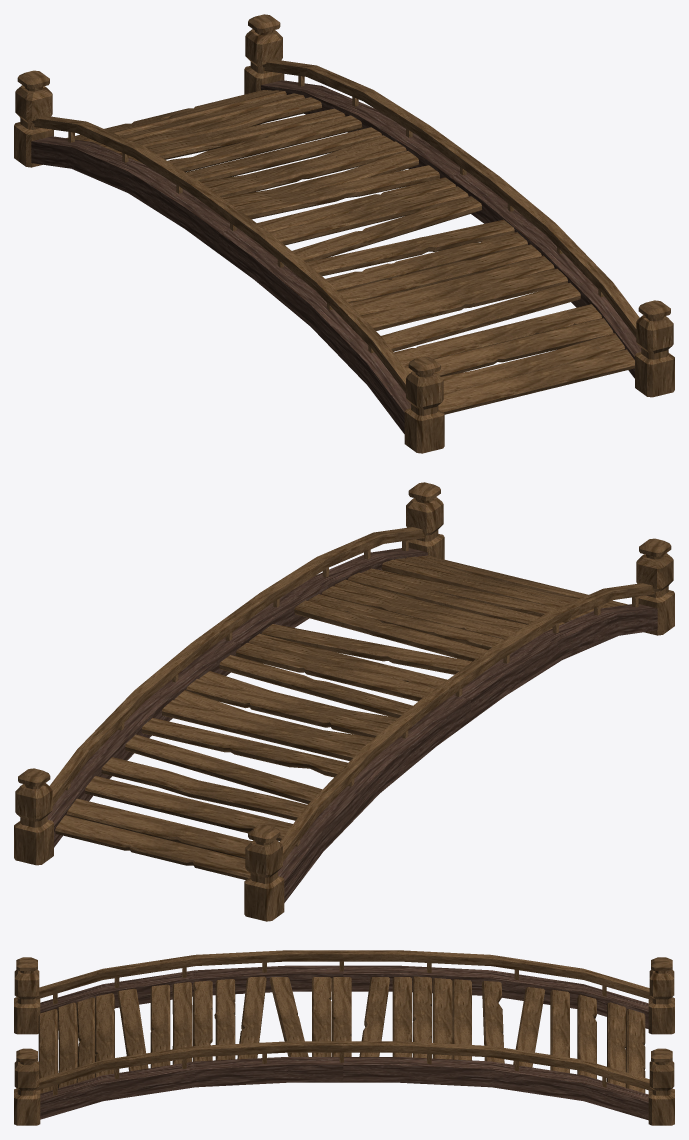
File: Bridge01-transformed.glb
3 renders of one model, top to bottom at view 1: azimuth 30°, elevation 25°; view 2: azimuth 150°, elevation 25°; view 3: azimuth 270°, elevation 25°, orthographic. The views are drawn at different scales.
Visible parts, largest first — view 1: Bridge01; view 2: Bridge01; view 3: Bridge01.
Part boxes in pixels (bbox=[...]): Bridge01: bbox=[14, 14, 674, 453]; Bridge01: bbox=[14, 482, 674, 921]; Bridge01: bbox=[14, 950, 674, 1125].
Bounding box in the file's own units: 11.02 × 3.84 × 30.07.
2 materials, 2 textured.
